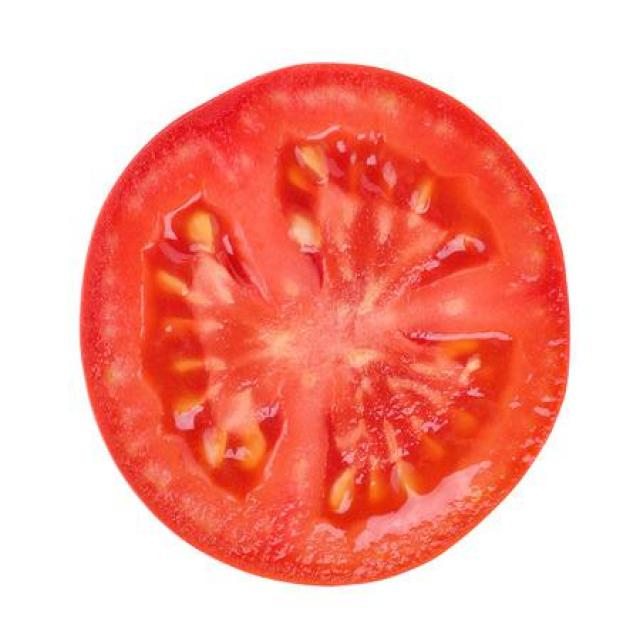Tomato: (70, 54, 594, 593)
